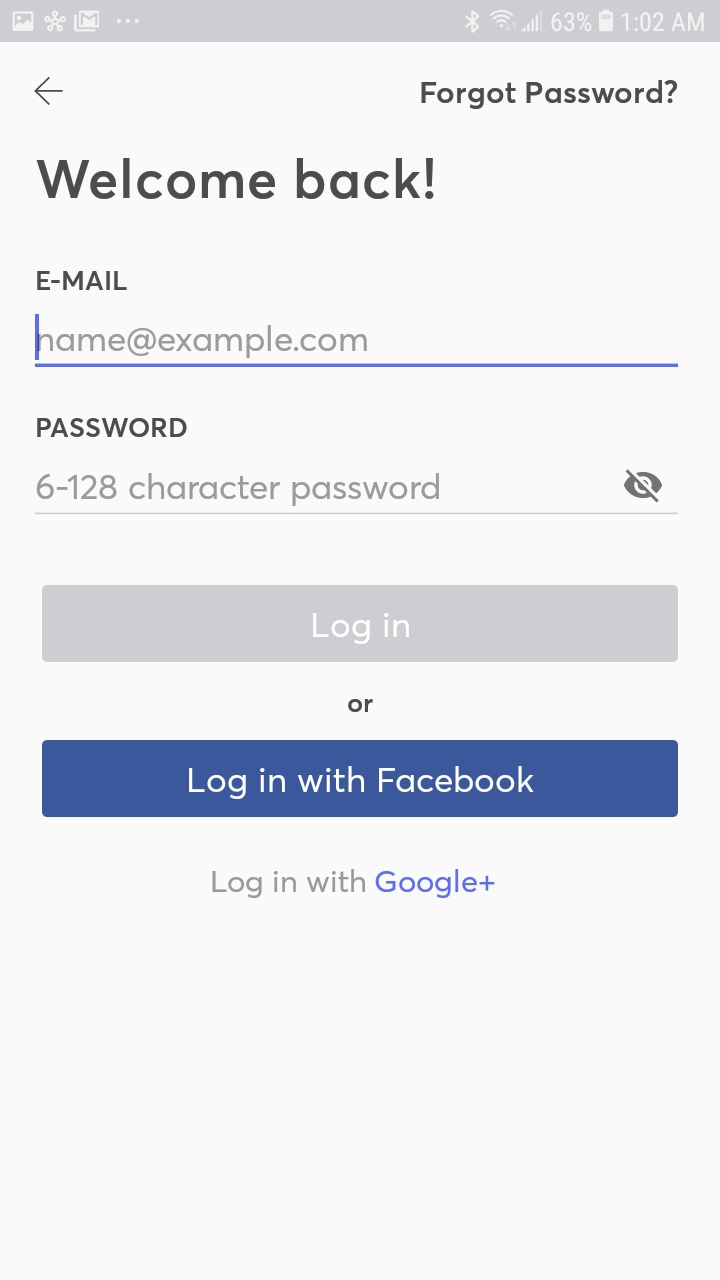EditText: (35, 314, 679, 368), (35, 469, 679, 516)
Icon: (623, 469, 663, 504), (34, 77, 64, 107)
Text: (37, 158, 435, 200), (37, 473, 440, 507), (38, 325, 367, 360), (212, 868, 496, 899), (421, 80, 678, 110), (37, 418, 188, 438), (37, 271, 129, 291), (348, 699, 374, 713)
TextButton: (42, 740, 679, 818), (43, 585, 678, 663)
UpperTaskBar: (1, 1, 720, 43)
